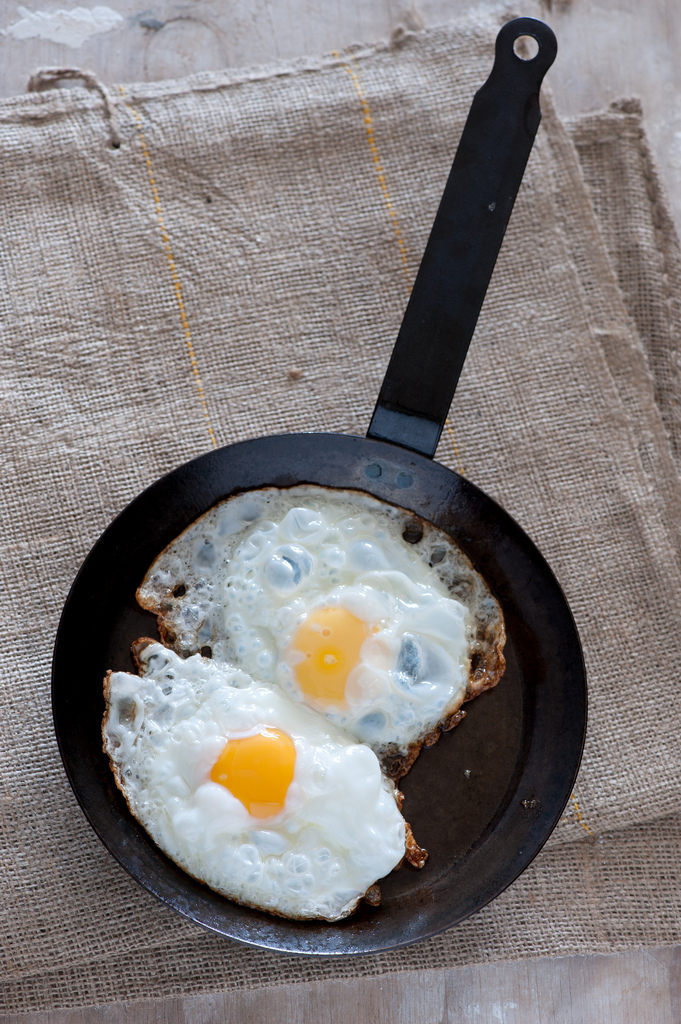fried egg: (85, 637, 433, 921), (148, 481, 507, 740)
